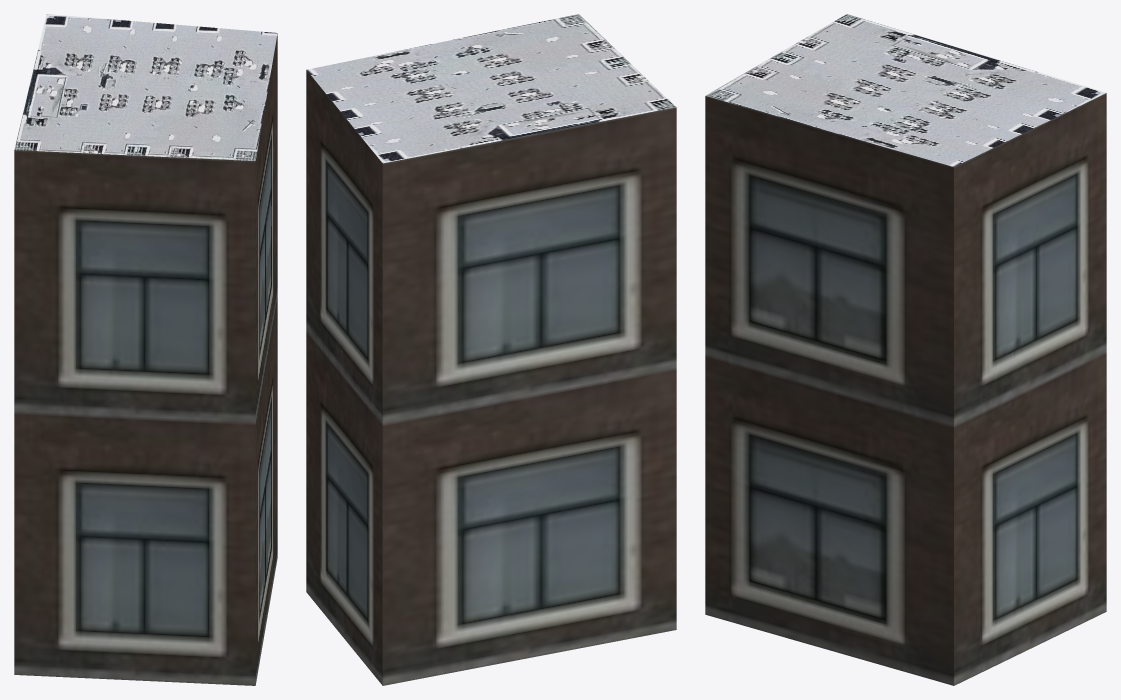
Rendered from ResTex__135.fbx.
The picture shows the model from 3 angles, left to right: view 1: azimuth 30°, elevation 25°; view 2: azimuth 150°, elevation 25°; view 3: azimuth 270°, elevation 25°; orthographic projection.
Visible parts, largest first — view 1: CityEngineMaterial_16_m, CityEngineMaterial_15_m; view 2: CityEngineMaterial_16_m, CityEngineMaterial_15_m; view 3: CityEngineMaterial_16_m, CityEngineMaterial_15_m.
Boxes of the visible parts, left/top/right/bottom form: CityEngineMaterial_16_m: left=14, top=34, right=277, bottom=685; CityEngineMaterial_15_m: left=14, top=14, right=277, bottom=160; CityEngineMaterial_16_m: left=306, top=70, right=676, bottom=685; CityEngineMaterial_15_m: left=307, top=14, right=676, bottom=163; CityEngineMaterial_16_m: left=705, top=93, right=1106, bottom=685; CityEngineMaterial_15_m: left=705, top=14, right=1105, bottom=166.
Bounding box in the file's own units: 3.8 × 6 × 4.21.
2 materials, 2 textured.
